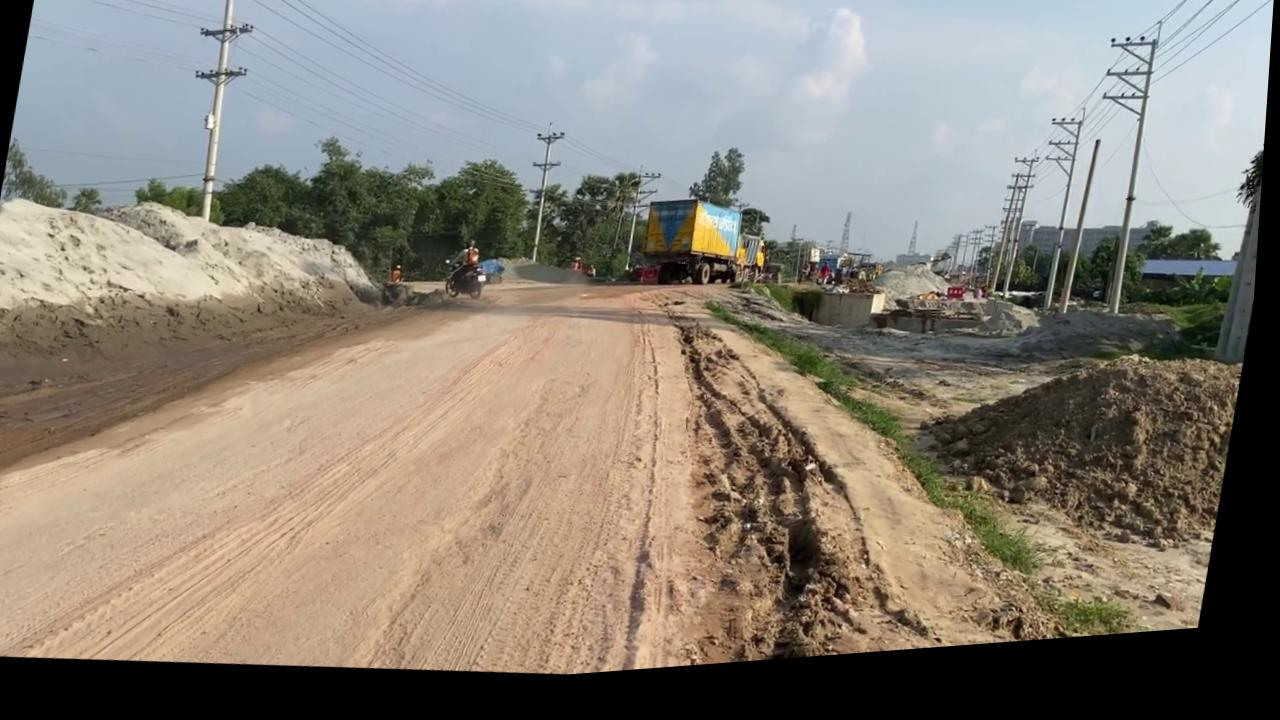Light-pole: (189, 0, 284, 250)
Motorcycle: (458, 259, 501, 311)
Obstacle: (791, 310, 890, 365)
Pole: (1155, 0, 1277, 404), (1061, 65, 1162, 352)
Rickshaw: (644, 309, 1062, 680)
Traffic-sign: (1195, 136, 1269, 295), (692, 175, 756, 250)
Tree: (604, 215, 762, 328), (809, 239, 893, 324), (812, 278, 886, 324), (721, 255, 764, 318), (846, 283, 878, 316)
